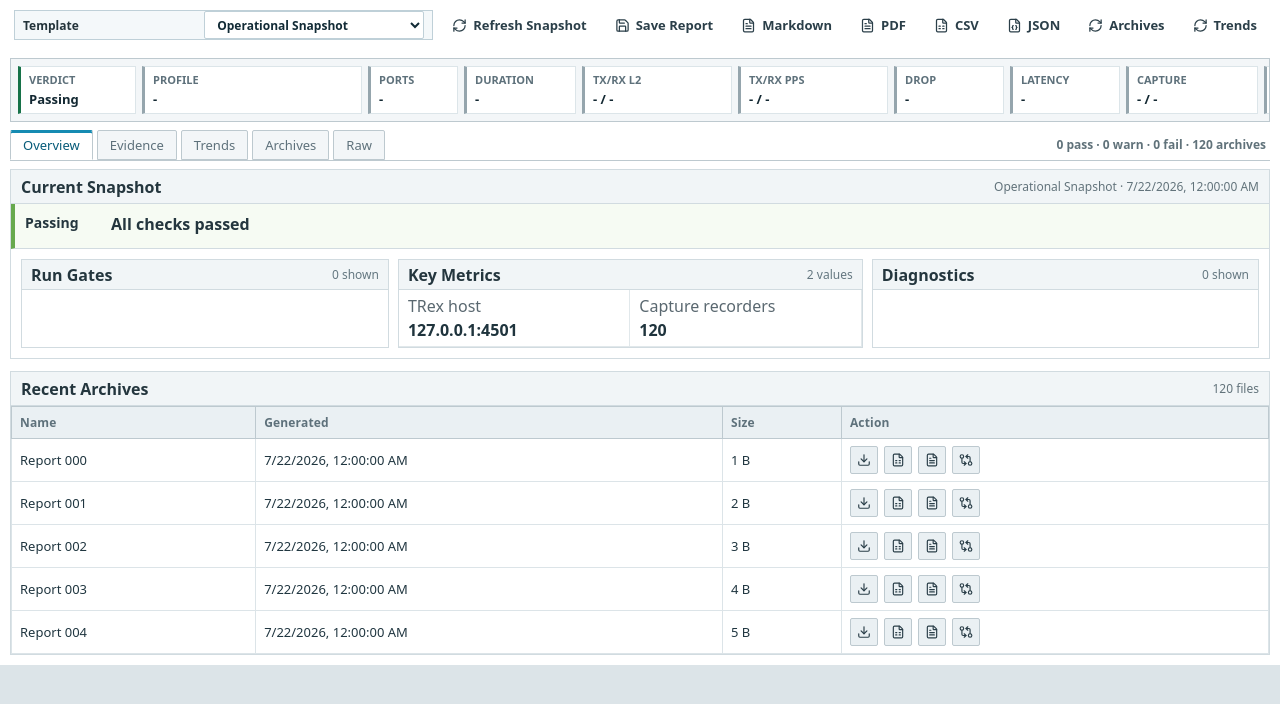
Test: RunReportsWorkspace › keeps key metric values discoverable and paginates the full archive
Check: the text titled "127.0.0.1:4501" is shown, box [408, 319, 518, 341]
Click the tab "Archives" at {"x": 291, "y": 145}, box [252, 130, 329, 160]
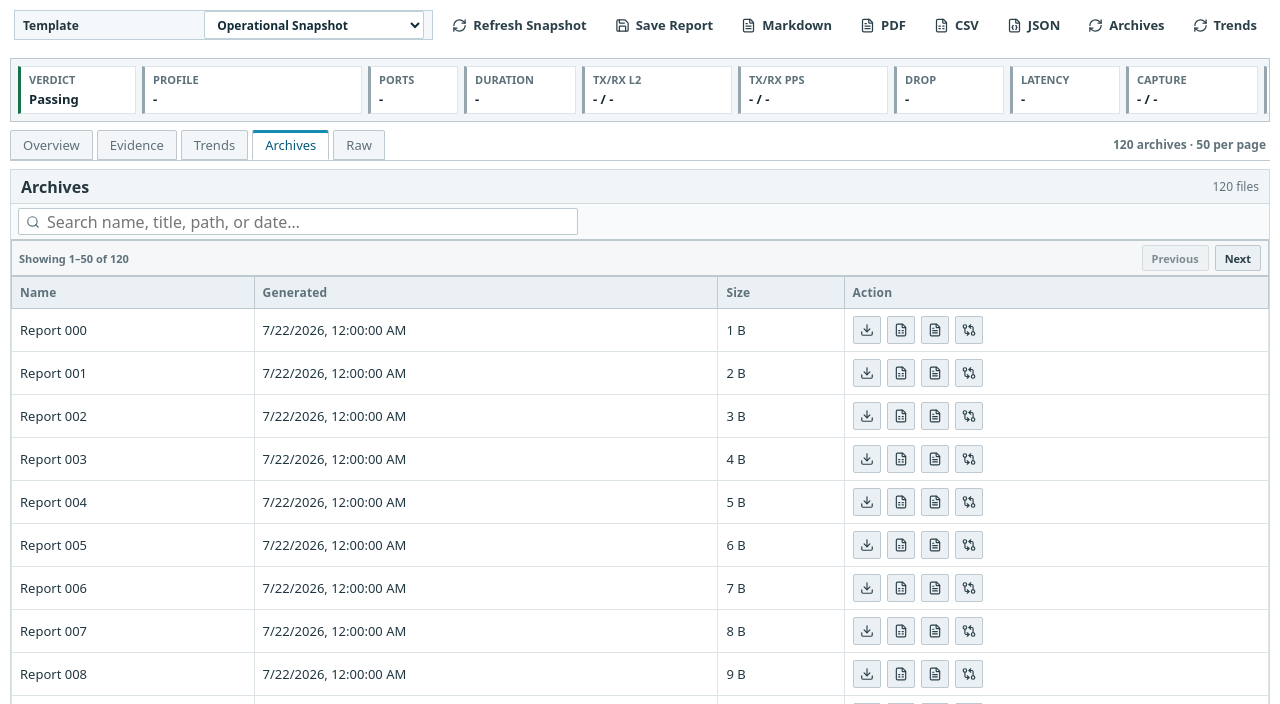
Check: the button named "Download JSON report-000.json" is shown, box [853, 316, 881, 344]
Check: the text "Showing 1–50 of 120" is shown, box [19, 250, 129, 266]
Click the button "Next" at {"x": 1238, "y": 258}, box [1215, 245, 1261, 271]
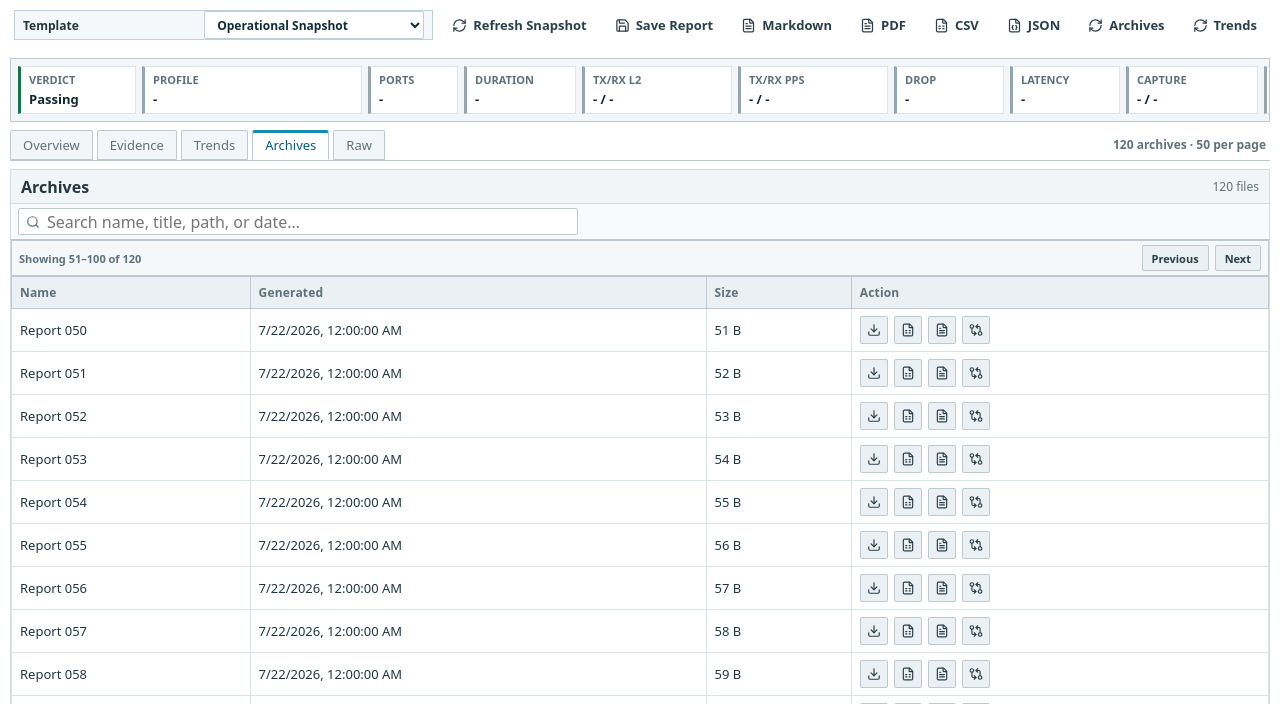
Check: the text "Showing 51–100 of 120" is shown, box [19, 250, 141, 266]
Check: the button named "Download JSON report-050.json" is shown, box [860, 316, 888, 344]
